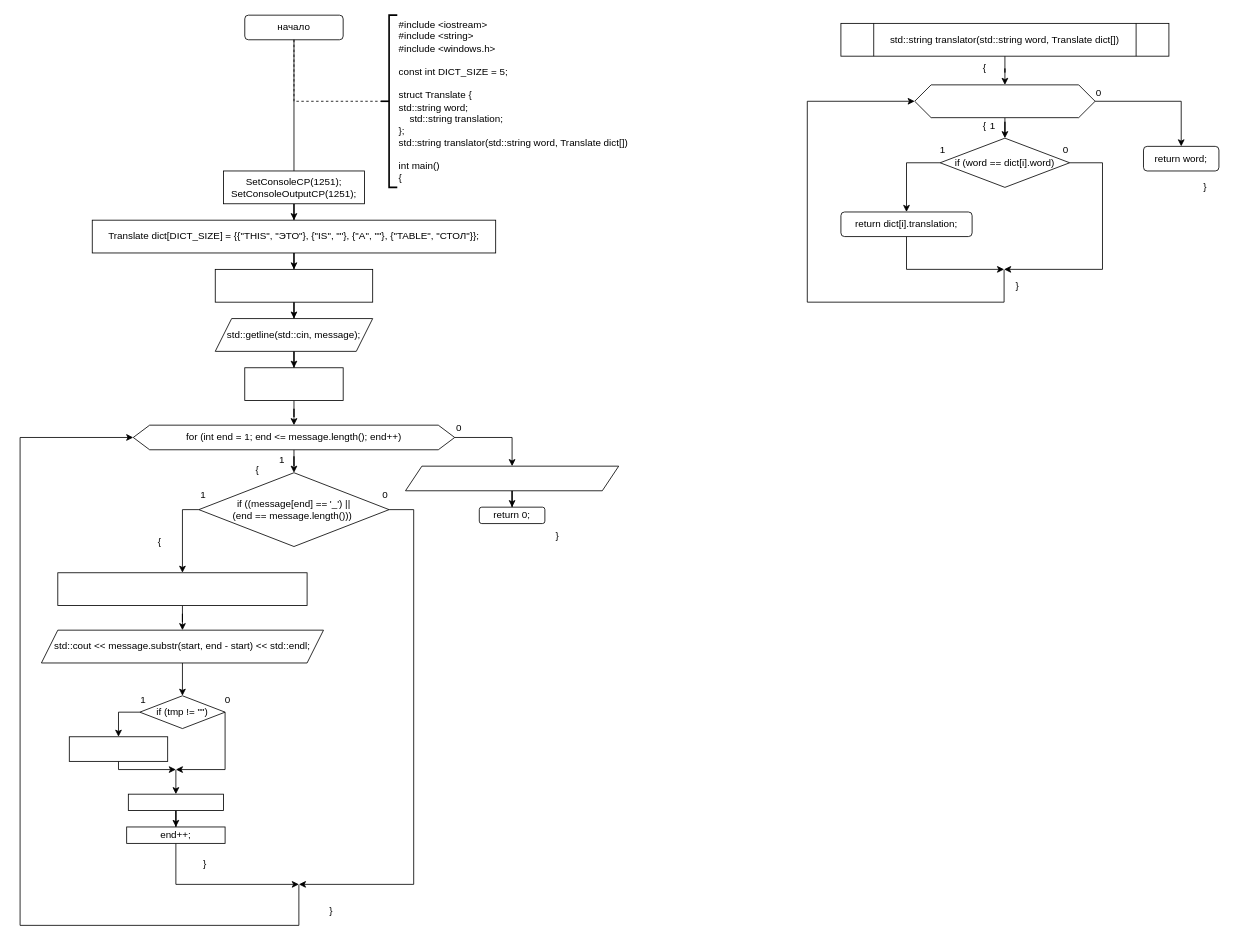
This 1233x946 diagram has some shape labels left out. The shapes that lost their labels are listed below. From the top down, each one's centre as x and y in pixels, then its label:
(x=1004, y=101): for (int i = 0; i < DICT_SIZE; i++)
(x=293, y=285): std::string message, result, tmp;
(x=293, y=384): int start = 0;
(x=512, y=478): std::cout << result << "\b \b"<< std::endl;
(x=182, y=589): tmp = translator(message.substr(start, end - start), dict);
(x=118, y=748): result += (tmp + "_");
(x=175, y=802): start = end+1;
